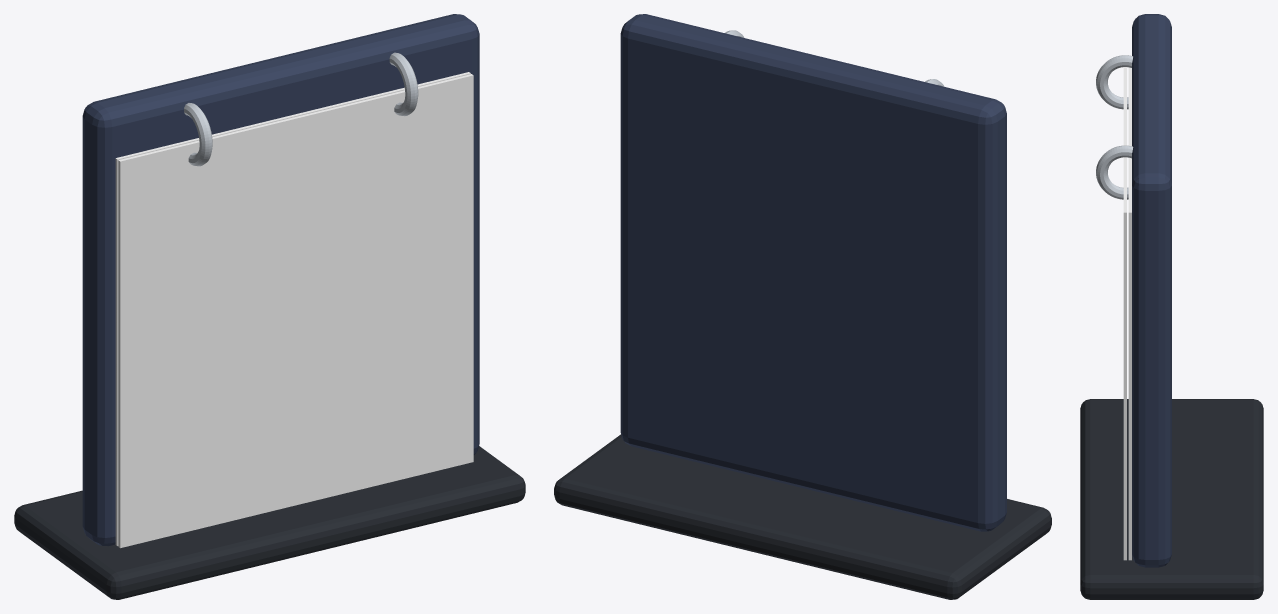
File: calendario.glb
3 renders of one model, left to right at view 1: azimuth 30°, elevation 25°; view 2: azimuth 150°, elevation 25°; view 3: azimuth 270°, elevation 25°, orthographic. The views are drawn at different scales.
Parts seen in each view (by area): view 1: volante, Cube.001, Cube, hoja, Torus, Torus.001; view 2: Cube.001, Cube; view 3: Cube, Cube.001, volante, hoja, Torus.001, Torus.
Boxes of the visible parts, box(x1,y1,x2,y2) form: volante: box(118, 74, 473, 548); Cube.001: box(82, 14, 479, 546); Cube: box(14, 446, 525, 599); hoja: box(115, 72, 470, 545); Torus: box(184, 103, 212, 166); Torus.001: box(389, 52, 418, 116); Cube.001: box(620, 14, 1006, 531); Cube: box(554, 434, 1051, 599); Cube: box(1080, 399, 1263, 599); Cube.001: box(1132, 14, 1171, 567); volante: box(1123, 67, 1126, 560); hoja: box(1128, 67, 1131, 560); Torus.001: box(1096, 145, 1133, 199); Torus: box(1096, 55, 1132, 109).
Size of the model in its own units: 1.3 by 1.38 by 0.55.
